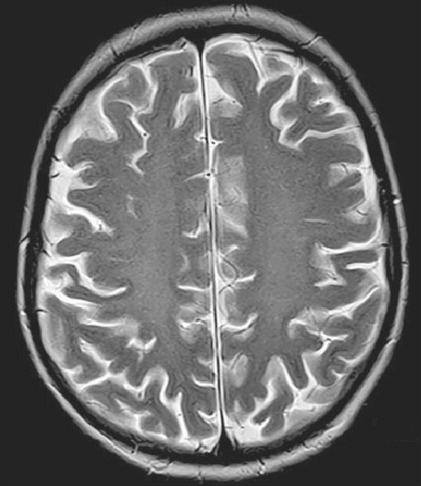Normal_Brain: (8, 1, 421, 486)
